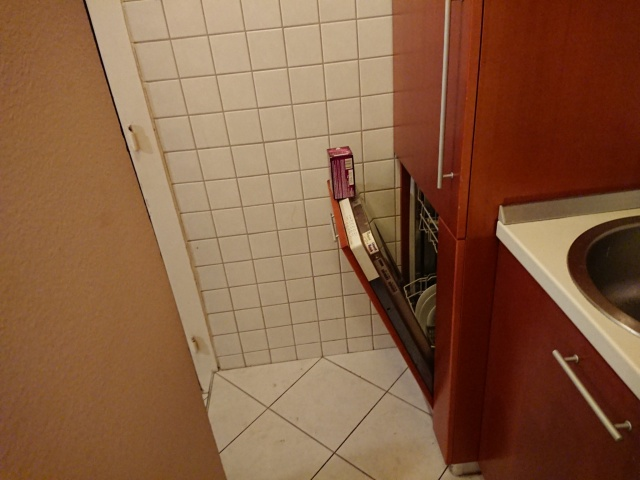Franck Black Currant Tea 60g: (325, 143, 358, 202)
